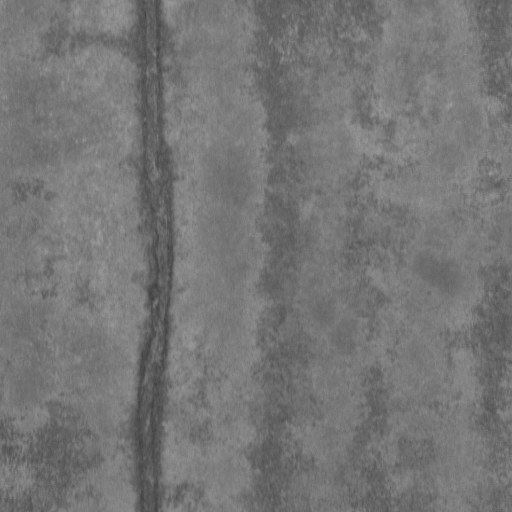zongxiangliewen: (135, 1, 176, 511)
